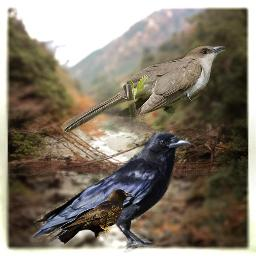Crow: (30, 128, 194, 254), (58, 187, 135, 246)
Cuckoo: (60, 44, 225, 132)
